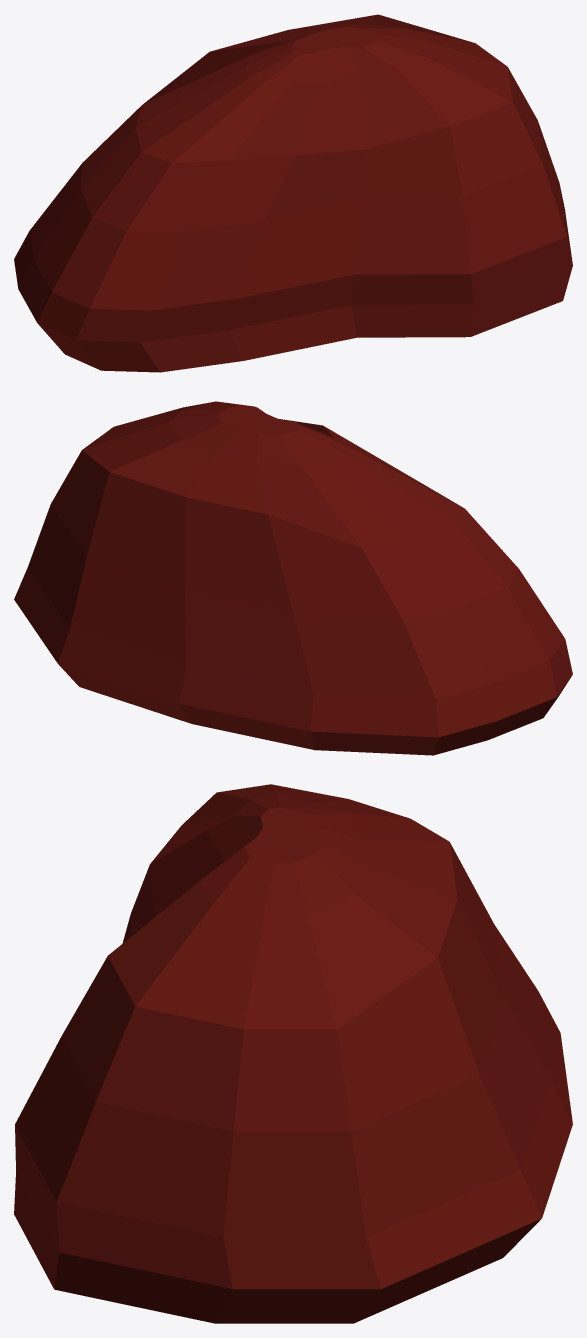
Rendered from rock 003.fbx.
3 views of the same model, one above another, from view 1: azimuth 30°, elevation 25°; view 2: azimuth 150°, elevation 25°; view 3: azimuth 270°, elevation 25° (orthographic). The views are drawn at different scales.
Visible parts, largest first — view 1: Empty_Mesh; view 2: Empty_Mesh; view 3: Empty_Mesh.
Part boxes in pixels (box(x1,y1,x2,y2)): Empty_Mesh: box(14, 14, 572, 372); Empty_Mesh: box(14, 401, 572, 755); Empty_Mesh: box(14, 784, 572, 1323).
Size of the model in its own units: 722 by 322 by 470.
